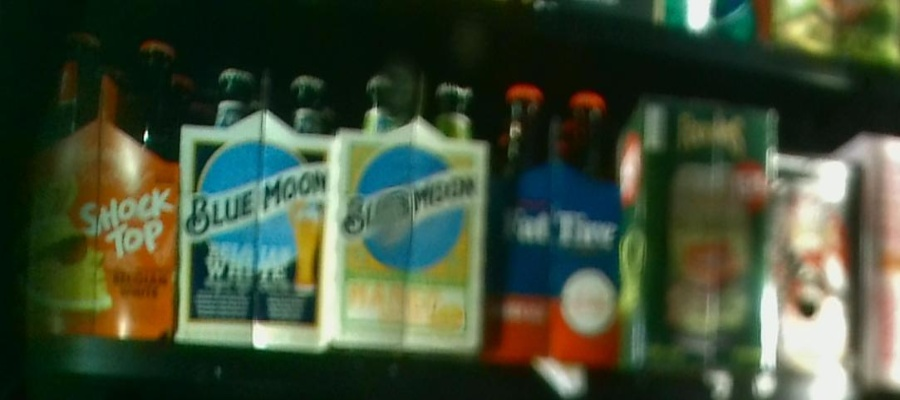bottle: (29, 29, 181, 339), (181, 64, 332, 349), (623, 89, 770, 376), (337, 69, 481, 359), (491, 76, 622, 370), (770, 154, 856, 381)
